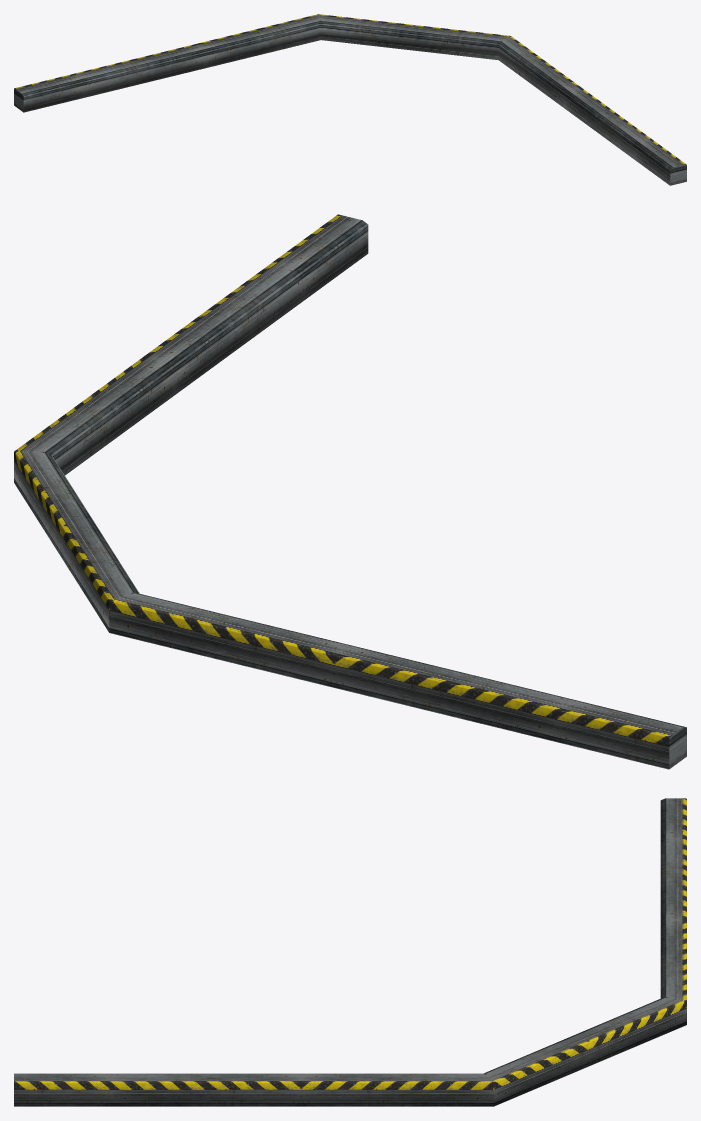
The model's file is Edges_18.fbx.
The picture shows the model from 3 angles, top to bottom: view 1: azimuth 30°, elevation 25°; view 2: azimuth 150°, elevation 25°; view 3: azimuth 270°, elevation 25°; orthographic projection. The views are drawn at different scales.
Visible parts, largest first — view 1: Edges_18; view 2: Edges_18; view 3: Edges_18.
Boxes of the visible parts, box(x1,y1,x2,y2) form: Edges_18: box(14, 14, 686, 185); Edges_18: box(14, 214, 686, 769); Edges_18: box(14, 798, 686, 1106).
Bounding box in the file's own units: 703 × 27.46 × 703.
1 material, 1 textured.
